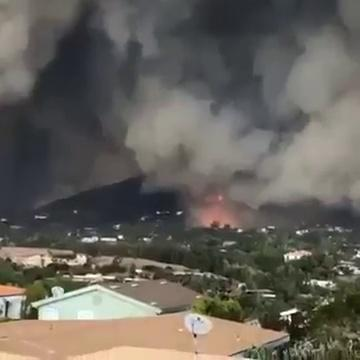smoke: (284, 59, 352, 185), (145, 105, 227, 165)
